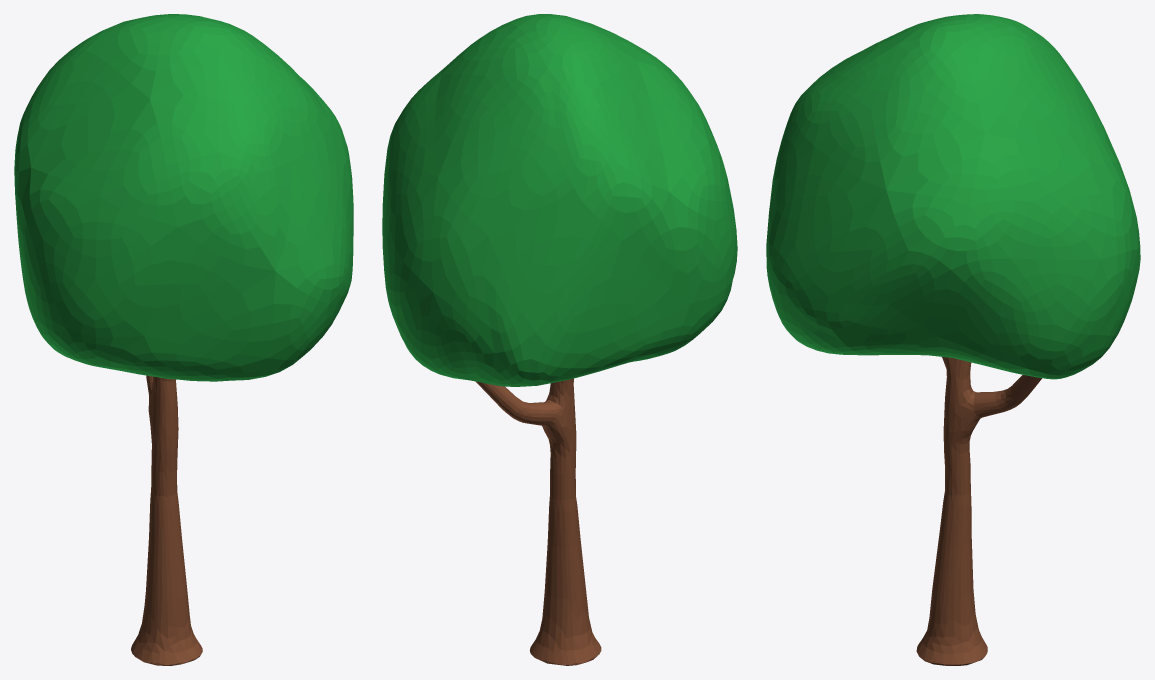
The model's file is AppleTree1.fbx.
3 views of the same model, side by side, from view 1: azimuth 30°, elevation 25°; view 2: azimuth 150°, elevation 25°; view 3: azimuth 270°, elevation 25° (orthographic).
Visible parts, largest first — view 1: Plane; view 2: Plane; view 3: Plane.
Boxes of the visible parts, bbox=[...] form: Plane: bbox=[14, 14, 353, 665]; Plane: bbox=[382, 14, 737, 665]; Plane: bbox=[766, 14, 1140, 665].
Bounding box in the file's own units: 221 × 428 × 228.
